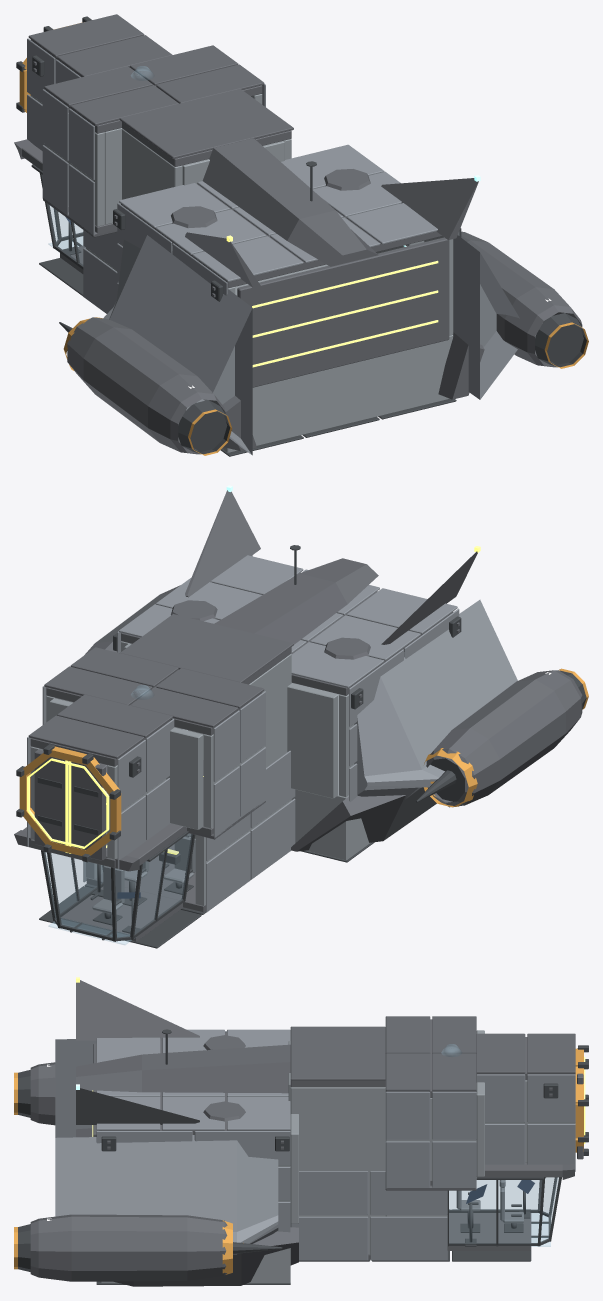
Rendered from kestrel.glb.
3 views of the same model, one above another, from view 1: azimuth 30°, elevation 25°; view 2: azimuth 150°, elevation 25°; view 3: azimuth 270°, elevation 25° (orthographic). The views are drawn at different scales.
Visible parts, largest first — view 1: body, ramp; view 2: body, nose_L, nose_R; view 3: body.
Part boxes in pixels (<box>): body: <box>14,14,588,456</box>; ramp: <box>237,237,449,387</box>; body: <box>14,485,588,948</box>; nose_L: <box>68,761,105,860</box>; nose_R: <box>34,749,68,852</box>; body: <box>14,977,588,1286</box>.
Size of the model in its own units: 10.36 by 5.58 by 13.92.
